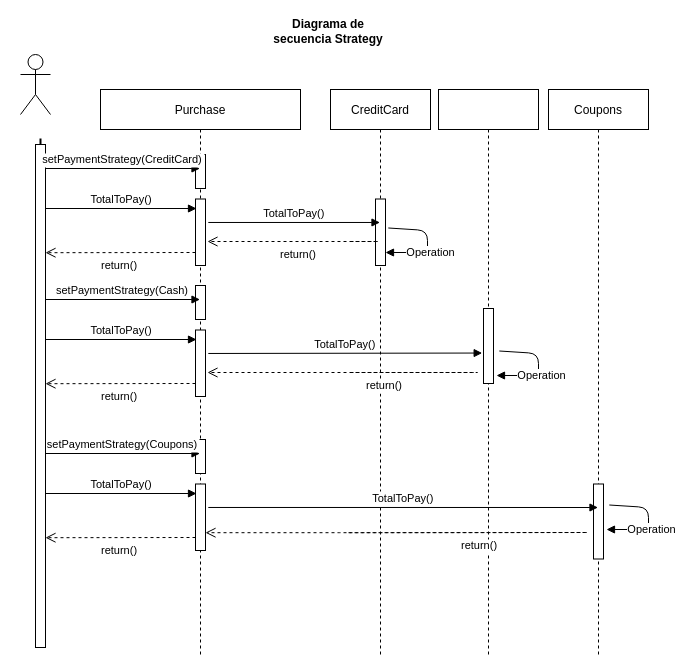
This 693x672 diagram has some shape labels left out. The centre of each missing label's shape, as x and y in pixels:
"Cash" belongs at [488,371].
"Cliente" belongs at [35,84].
